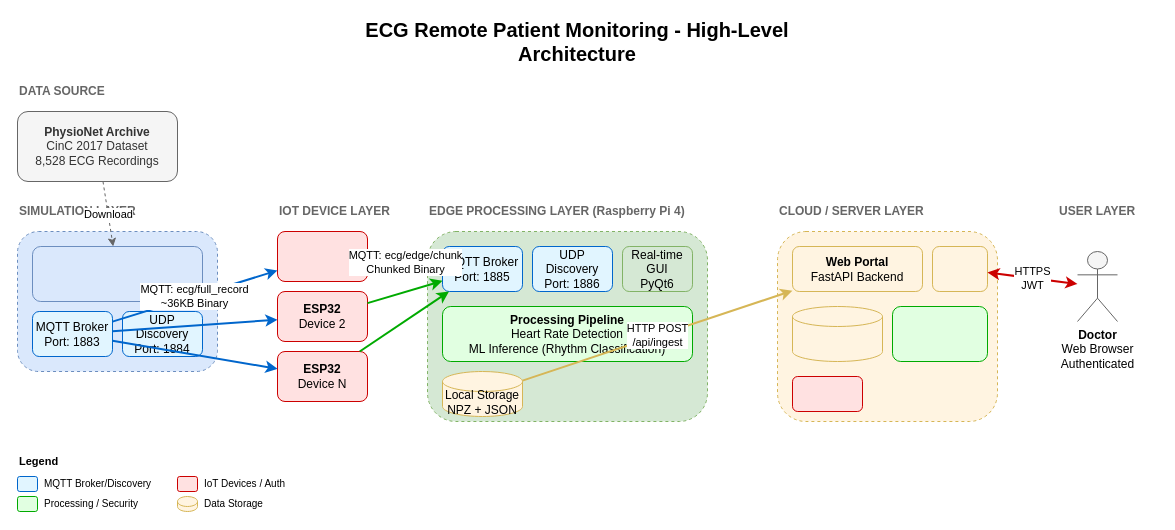
Image size: 1175x530. Some labels were removed from this diagram. Here are the shapes that lost their labels. From the top down, the centre of each, then its label:
the point at 117,274: DataSimulator PyQt6 Application macOS/Linux/Windows
the point at 322,256: ESP32 Device 1
the point at 960,269: Frontend Jinja2 + JS
the point at 837,334: SQLite DB Patients + ECG + Audit Log
the point at 940,334: Cryptographic Audit Ledger Hash-Chained
the point at 827,394: JWT Auth
